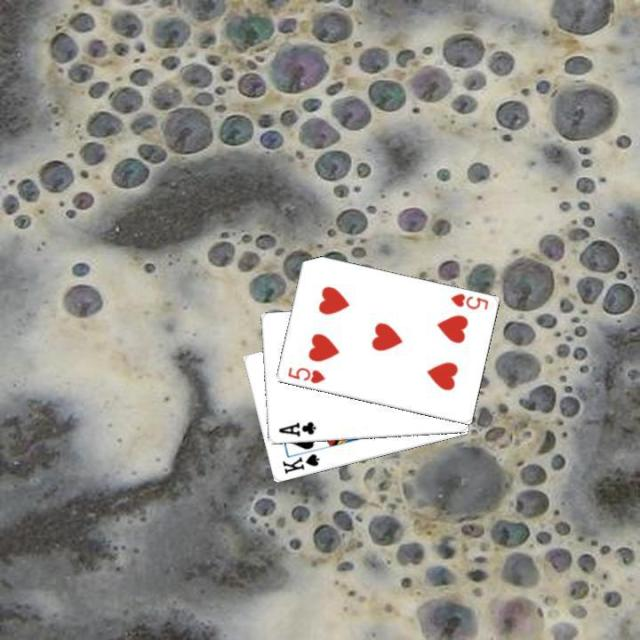5H: (284, 362, 326, 386), (446, 290, 490, 312)
AC: (275, 418, 317, 439)
KS: (278, 450, 322, 476)
